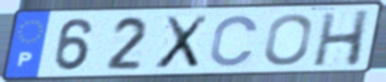2: (105, 15, 151, 72)
6: (53, 17, 96, 73)
C: (207, 13, 262, 69)
H: (310, 8, 373, 68)
O: (262, 12, 315, 67)
X: (152, 13, 212, 72)
